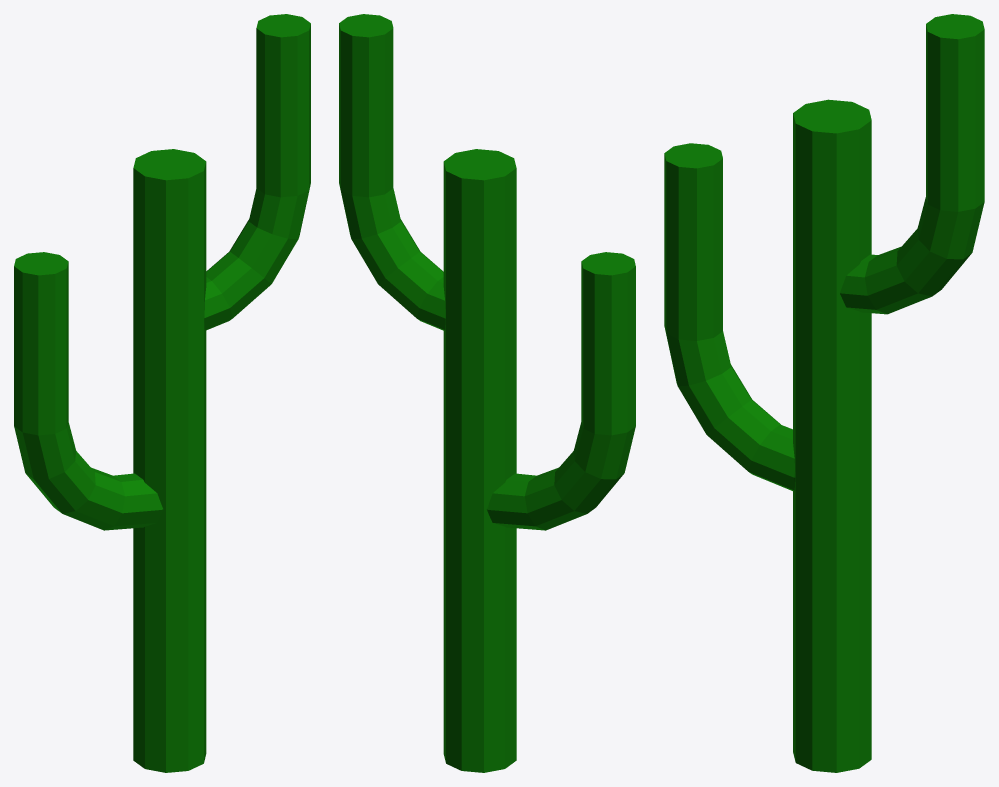
File: Cactus2.fbx
3 renders of one model, left to right at view 1: azimuth 30°, elevation 25°; view 2: azimuth 150°, elevation 25°; view 3: azimuth 330°, elevation 25°, orthographic. The views are drawn at different scales.
Visible parts, largest first — view 1: Cylinder, Cylinder.001, Cylinder.002; view 2: Cylinder, Cylinder.001, Cylinder.002; view 3: Cylinder, Cylinder.001, Cylinder.002.
Part boxes in pixels (<box>): Cylinder: <box>133,149,206,772</box>; Cylinder.001: <box>14,252,163,530</box>; Cylinder.002: <box>204,14,310,330</box>; Cylinder: <box>443,149,516,772</box>; Cylinder.001: <box>486,252,635,530</box>; Cylinder.002: <box>339,14,445,330</box>; Cylinder: <box>793,99,871,772</box>; Cylinder.001: <box>664,143,795,490</box>; Cylinder.002: <box>840,14,984,314</box>.
Size of the model in its own units: 62.1 by 145 by 13.9.
